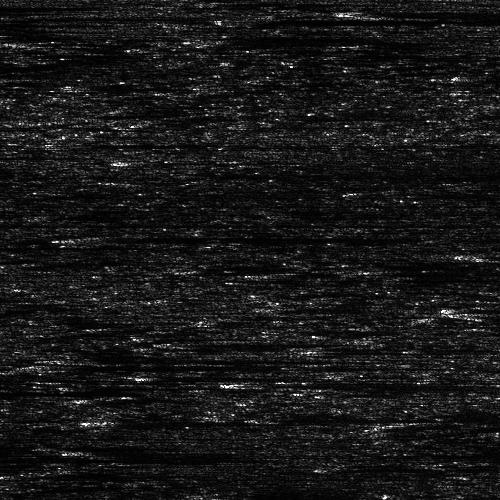rock: (15, 414, 212, 429), (0, 353, 110, 378), (435, 302, 500, 321), (34, 232, 149, 241), (294, 8, 409, 17), (93, 372, 166, 381), (0, 468, 57, 479), (202, 379, 285, 386), (39, 355, 112, 362), (55, 444, 96, 455), (320, 269, 383, 276), (456, 251, 500, 260), (147, 342, 210, 347), (412, 73, 475, 78), (212, 17, 253, 24), (331, 496, 372, 500)
shadow: (43, 353, 232, 378), (114, 414, 308, 429), (92, 232, 402, 241), (233, 17, 499, 24), (76, 444, 204, 455), (244, 379, 444, 386), (16, 468, 142, 479), (0, 454, 198, 461), (352, 8, 500, 17), (130, 372, 259, 381), (352, 269, 500, 276), (76, 355, 202, 362), (0, 150, 77, 161), (0, 13, 168, 18), (352, 496, 500, 500), (0, 389, 95, 394), (0, 2, 66, 7), (179, 342, 244, 347), (444, 73, 500, 78)
